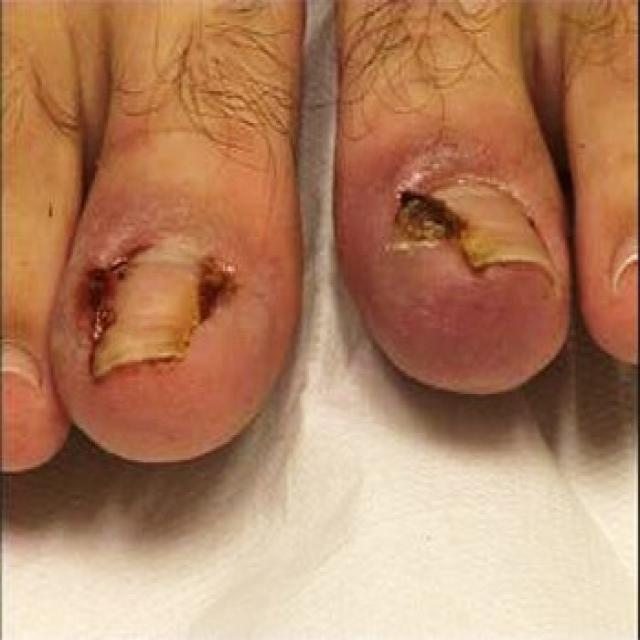diabetes: (90, 233, 240, 379), (397, 176, 560, 283)
